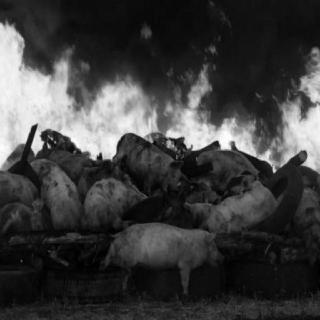Fire: (1, 19, 319, 178)
